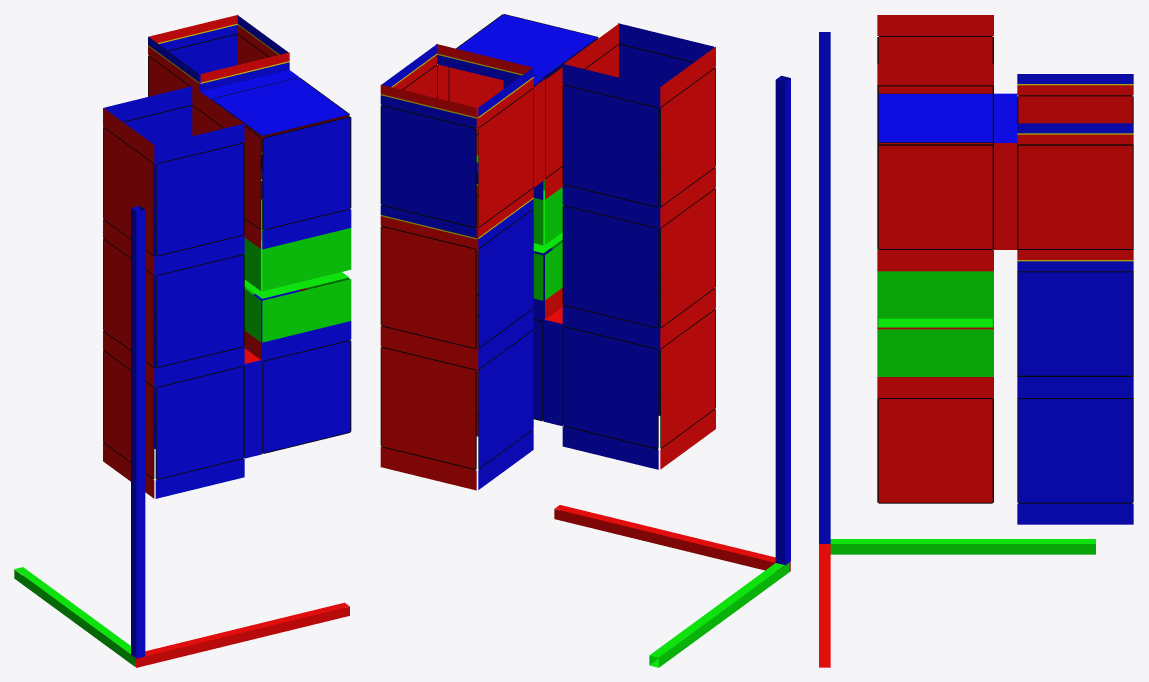
The picture shows the model from 3 angles, left to right: view 1: azimuth 30°, elevation 25°; view 2: azimuth 150°, elevation 25°; view 3: azimuth 270°, elevation 25°; orthographic projection. The views are drawn at different scales.
Visible parts, largest first — view 1: spider(0, 0, 2):-J, spider(0, 0, 3):-J, spider(0, 0, 1):-J, spider(1, 0, 1):-J, spider(1, 0, 3):-J, spider(1, 0, 3):+K, axisK:-J, spider(0, 0, 3):-I, spider(1, 0, 2):bottom:-J, spider(1, 0, 2):top:-J, spider(0, 0, 1):-I, spider(0, 0, 2):-I (+32 smaller); view 2: spider(0, 0, 2):+J, spider(1, 1, 1):+J, spider(1, 1, 3):+J, spider(0, 0, 1):+J, spider(0, 0, 3):+J, spider(1, 1, 2):+J, spider(1, 1, 1):-I, spider(0, 0, 3):-I, spider(1, 1, 2):-I, spider(1, 1, 3):-I, spider(0, 0, 1):-I, spider(0, 0, 2):-I (+37 smaller); view 3: spider(1, 0, 1):+I, spider(1, 0, 3):+I, spider(1, 1, 1):+I, spider(1, 1, 2):+I, spider(1, 1, 3):+I, axisK:+I, spider(1, 0, 3):+K, spider(1, 0, 2):top:+I, spider(1, 0, 2):bottom:+I, spider(1, 1, 3):-I, spider(0, 0, 3):-I, axisJ:+I (+15 smaller).
Boxes of the visible parts, left/top/right/bottom form: spider(0, 0, 2):-J: left=155, top=254, right=244, bottom=368; spider(0, 0, 3):-J: left=155, top=142, right=244, bottom=256; spider(0, 0, 1):-J: left=155, top=366, right=244, bottom=479; spider(1, 0, 1):-J: left=262, top=340, right=351, bottom=453; spider(1, 0, 3):-J: left=262, top=116, right=351, bottom=230; spider(1, 0, 3):+K: left=211, top=77, right=349, bottom=135; axisK:-J: left=136, top=209, right=145, bottom=658; spider(0, 0, 3):-I: left=103, top=126, right=154, bottom=255; spider(1, 0, 2):bottom:-J: left=262, top=279, right=351, bottom=342; spider(1, 0, 2):top:-J: left=262, top=228, right=351, bottom=291; spider(0, 0, 1):-I: left=103, top=350, right=154, bottom=479; spider(0, 0, 2):-I: left=103, top=238, right=154, bottom=367; spider(0, 0, 2):+J: left=562, top=205, right=658, bottom=328; spider(1, 1, 1):+J: left=380, top=346, right=476, bottom=469; spider(1, 1, 3):+J: left=380, top=105, right=476, bottom=228; spider(0, 0, 1):+J: left=562, top=326, right=658, bottom=449; spider(0, 0, 3):+J: left=562, top=84, right=658, bottom=207; spider(1, 1, 2):+J: left=380, top=225, right=476, bottom=349; spider(1, 1, 1):-I: left=478, top=329, right=533, bottom=469; spider(0, 0, 3):-I: left=660, top=67, right=715, bottom=206; spider(1, 1, 2):-I: left=478, top=209, right=533, bottom=348; spider(1, 1, 3):-I: left=478, top=88, right=533, bottom=227; spider(0, 0, 1):-I: left=660, top=309, right=715, bottom=448; spider(0, 0, 2):-I: left=660, top=188, right=715, bottom=327; spider(1, 0, 1):+I: left=877, top=398, right=993, bottom=503; spider(1, 0, 3):+I: left=877, top=144, right=993, bottom=249; spider(1, 1, 1):+I: left=1017, top=398, right=1133, bottom=503; spider(1, 1, 2):+I: left=1017, top=271, right=1133, bottom=376; spider(1, 1, 3):+I: left=1017, top=144, right=1133, bottom=249; axisK:+I: left=819, top=37, right=830, bottom=543; spider(1, 0, 3):+K: left=877, top=93, right=993, bottom=142; spider(1, 0, 2):top:+I: left=877, top=271, right=993, bottom=318; spider(1, 0, 2):bottom:+I: left=877, top=329, right=993, bottom=376; spider(1, 1, 3):-I: left=1017, top=95, right=1133, bottom=145; spider(0, 0, 3):-I: left=877, top=36, right=993, bottom=86; axisJ:+I: left=830, top=544, right=1095, bottom=554.
Size of the model in its own units: 2.71 by 5.3 by 2.71.
